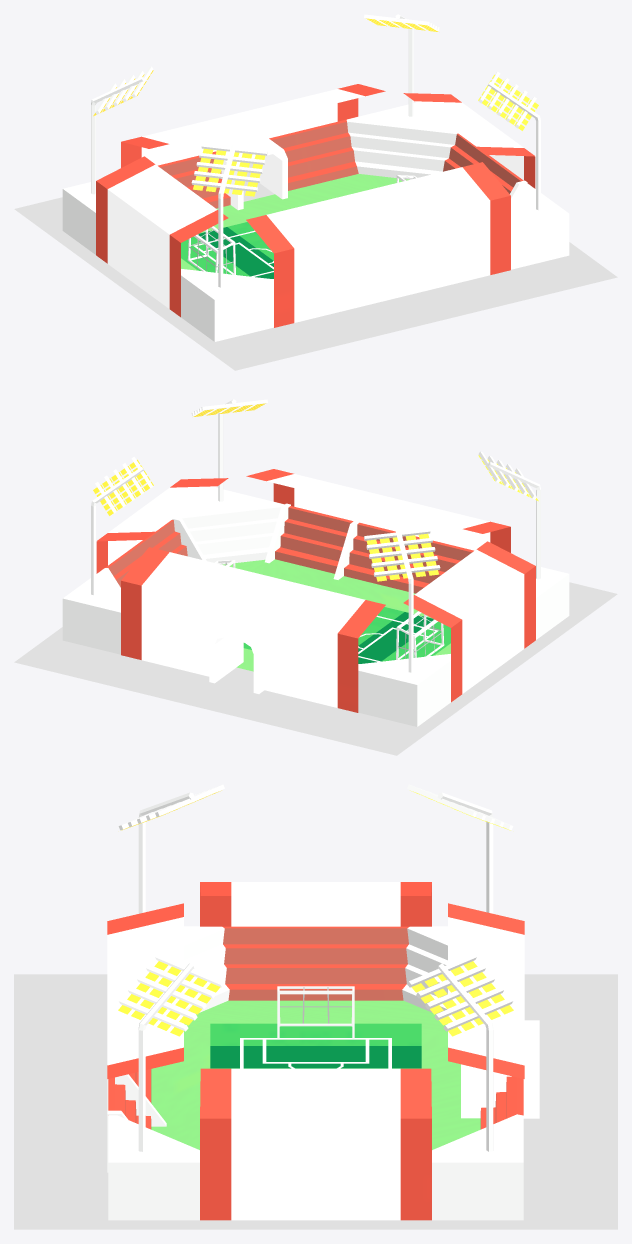
Rendered from stadiums.007.glb.
The picture shows the model from 3 angles, top to bottom: view 1: azimuth 30°, elevation 25°; view 2: azimuth 150°, elevation 25°; view 3: azimuth 270°, elevation 25°; orthographic projection. The views are drawn at different scales.
Visible parts, largest first — view 1: stadiums.007(Clone); view 2: stadiums.007(Clone); view 3: stadiums.007(Clone).
Part boxes in pixels (bbox=[...]): stadiums.007(Clone): bbox=[14, 14, 617, 370]; stadiums.007(Clone): bbox=[14, 399, 617, 755]; stadiums.007(Clone): bbox=[14, 784, 617, 1229].
Size of the model in its own units: 16 by 6.67 by 16.
Materials: 1 (1 with a texture image).
